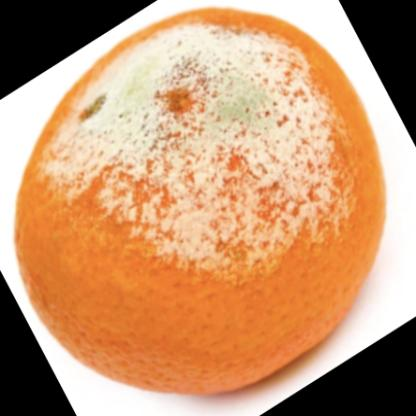rotten: (17, 10, 388, 398)
